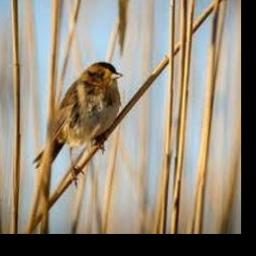Sparrow: (33, 61, 123, 186)
